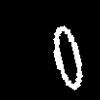chain: (53, 26, 82, 89)
